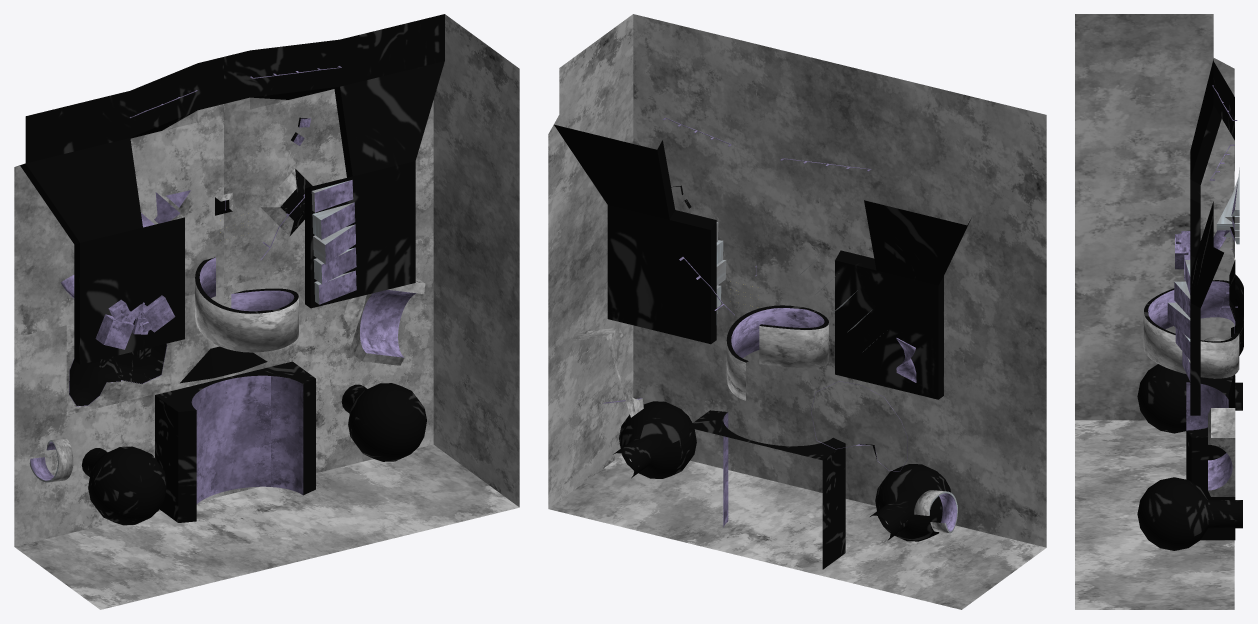
The model's file is lab_texturetest_legacy_bake.gltf.
The picture shows the model from 3 angles, left to right: view 1: azimuth 30°, elevation 25°; view 2: azimuth 150°, elevation 25°; view 3: azimuth 270°, elevation 25°; orthographic projection. The views are drawn at different scales.
Visible parts, largest first — view 1: walls, structure:1, structure:2, halfpipe:0, structure:3, structure:0, globes, fullpipe:0, pool:0, rampset:1, halfpipe:1, climb (+3 smaller); view 2: ceiling, walls, structure:2, structure:1, globes, fullpipe:0, halfpipe:0, fullpipe:1, halfpipe:1; view 3: walls, globes, fullpipe:0, halfpipe:0, structure:1, structure:2, halfpipe:1, rampset:1, rampset:0, pool:0, climb, funbox:0.001.
Part boxes in pixels (<box>): walls: <box>14,14,519,609</box>; structure:1: <box>14,57,223,364</box>; structure:2: <box>224,14,444,308</box>; halfpipe:0: <box>155,346,315,522</box>; structure:3: <box>14,287,223,546</box>; structure:0: <box>224,236,433,495</box>; globes: <box>82,383,426,525</box>; fullpipe:0: <box>195,257,298,352</box>; pool:0: <box>66,323,171,415</box>; rampset:1: <box>311,180,356,304</box>; halfpipe:1: <box>343,277,425,365</box>; climb: <box>95,295,175,349</box>; ceiling: <box>633,14,1046,547</box>; walls: <box>548,14,1046,609</box>; structure:2: <box>554,124,716,344</box>; structure:1: <box>835,200,971,399</box>; globes: <box>613,401,950,541</box>; fullpipe:0: <box>726,305,828,400</box>; halfpipe:0: <box>687,410,845,569</box>; fullpipe:1: <box>914,490,957,533</box>; halfpipe:1: <box>569,327,643,417</box>; walls: <box>1075,14,1234,609</box>; globes: <box>1137,364,1242,550</box>; fullpipe:0: <box>1143,280,1239,378</box>; halfpipe:0: <box>1186,375,1235,540</box>; structure:1: <box>1190,59,1234,257</box>; structure:2: <box>1190,156,1234,415</box>; halfpipe:1: <box>1208,408,1235,496</box>; rampset:1: <box>1167,260,1190,381</box>; rampset:0: <box>1216,167,1239,244</box>; pool:0: <box>1231,274,1243,355</box>; climb: <box>1175,231,1190,280</box>; funbox:0.001: <box>1219,232,1237,320</box>.
Bounding box in the file's own units: 512 × 512 × 193.
Materials: 9 (7 with a texture image).
